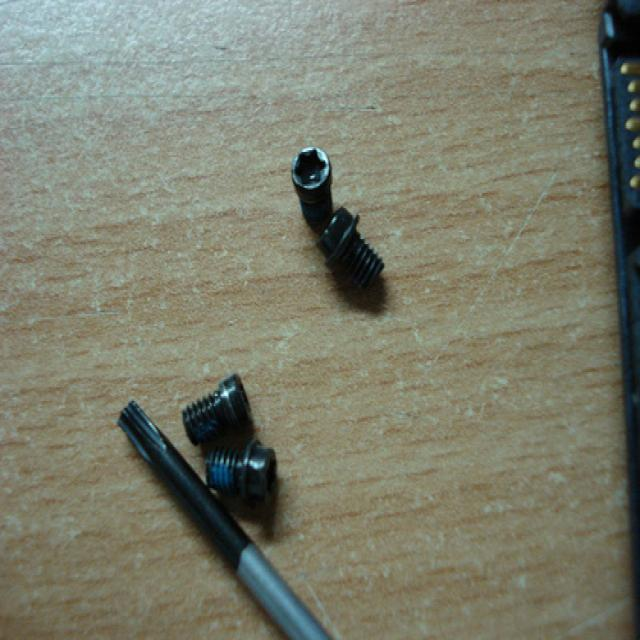screw: (292, 147, 384, 292), (182, 374, 275, 505)
